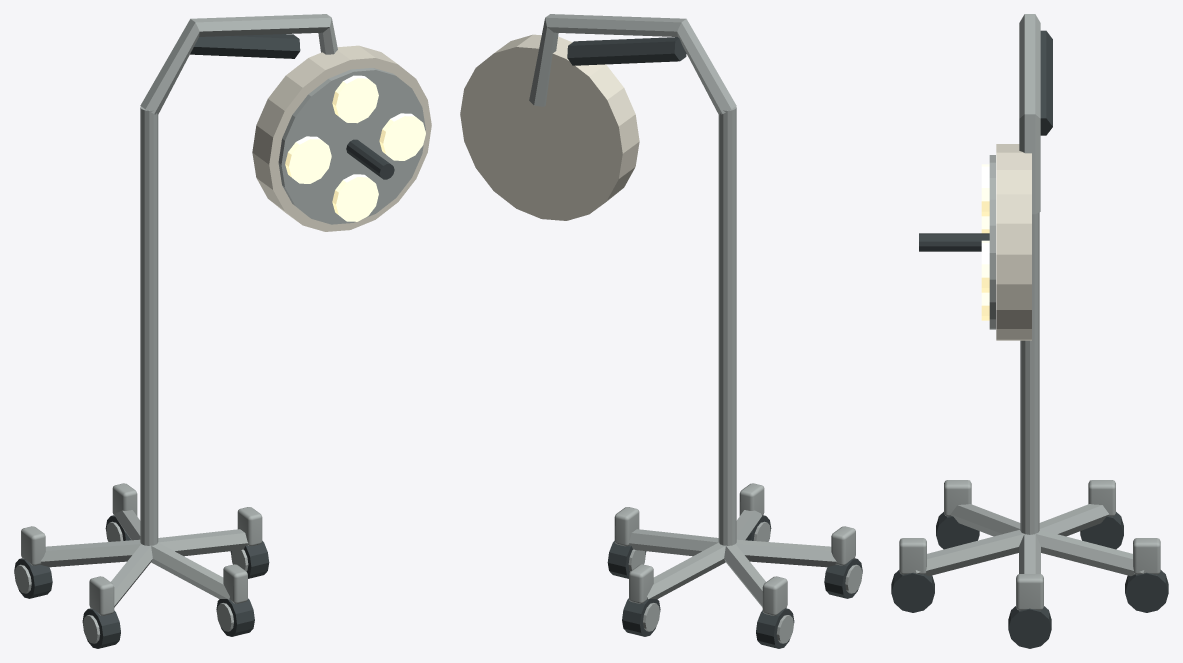
The model's file is surgical_light_starter.glb.
3 views of the same model, side by side, from view 1: azimuth 30°, elevation 25°; view 2: azimuth 150°, elevation 25°; view 3: azimuth 270°, elevation 25° (orthographic). The views are drawn at different scales.
Visible parts, largest first — view 1: STATIC_surgical_light_starter, MOVING_PIVOT_lamp_head_tilt; view 2: STATIC_surgical_light_starter, MOVING_PIVOT_lamp_head_tilt; view 3: STATIC_surgical_light_starter, MOVING_PIVOT_lamp_head_tilt.
Part boxes in pixels (x1,y1,x2,y2): STATIC_surgical_light_starter: (14,14,337,648); MOVING_PIVOT_lamp_head_tilt: (252,45,431,231); STATIC_surgical_light_starter: (529,14,862,648); MOVING_PIVOT_lamp_head_tilt: (460,34,639,220); STATIC_surgical_light_starter: (891,14,1168,648); MOVING_PIVOT_lamp_head_tilt: (919,144,1031,340).
Size of the model in its own units: 1.11 by 1.67 by 0.6997.
